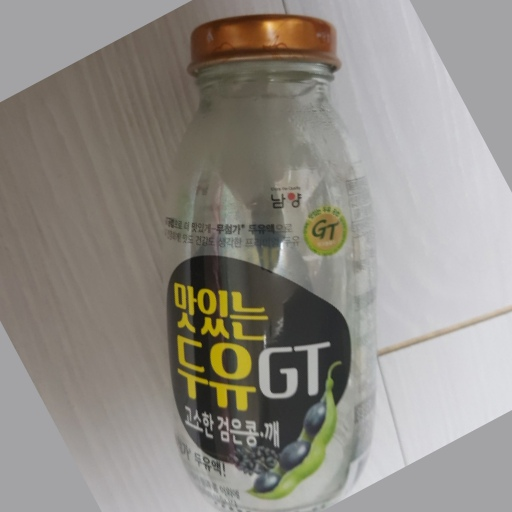Glass_4: (168, 12, 375, 508)
